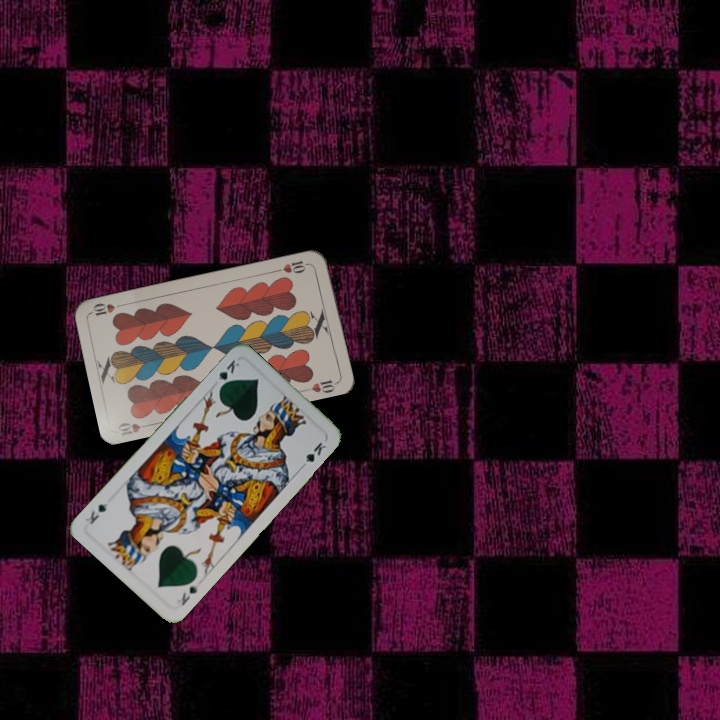GK: (214, 356, 242, 392), (173, 579, 202, 608)
H10: (114, 418, 155, 438), (272, 257, 312, 276)
